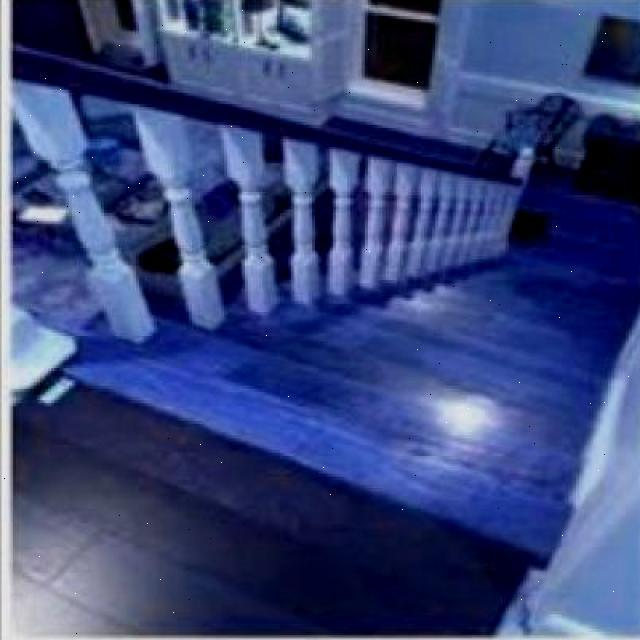stair: (72, 245, 562, 541)
